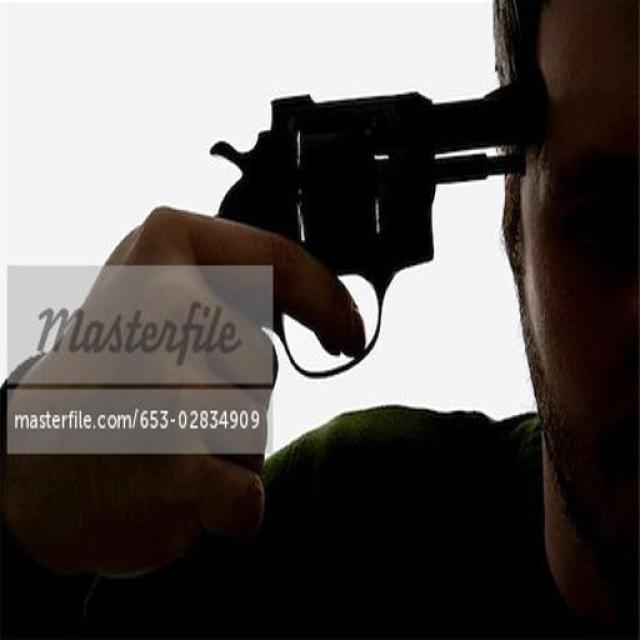pistol: (159, 59, 573, 415)
